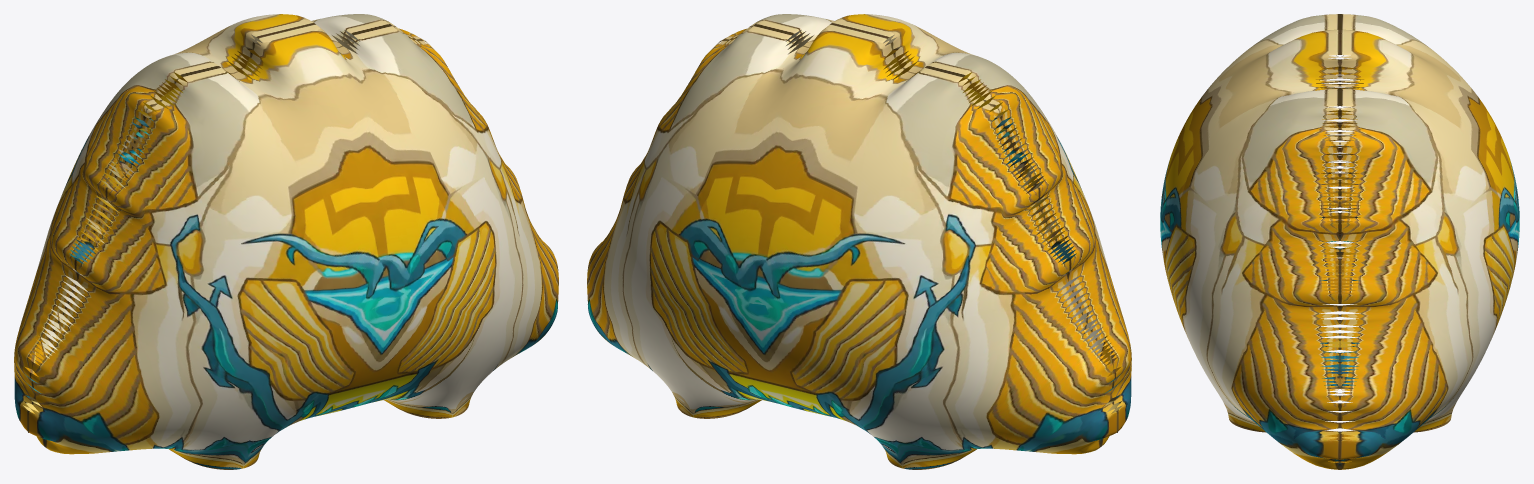
Rendered from temple_gate.glb.
3 renders of one model, left to right at view 1: azimuth 30°, elevation 25°; view 2: azimuth 150°, elevation 25°; view 3: azimuth 270°, elevation 25°, orthographic. The views are drawn at different scales.
Parts seen in each view (by area): view 1: temple_gate; view 2: temple_gate; view 3: temple_gate.
Part boxes in pixels (box(x1,y1,x2,y2)): temple_gate: box(14, 14, 558, 469); temple_gate: box(587, 14, 1131, 469); temple_gate: box(1160, 14, 1519, 469).
Size of the model in its own units: 0.989 by 0.6716 by 0.6628.
Materials: 1 (1 with a texture image).
